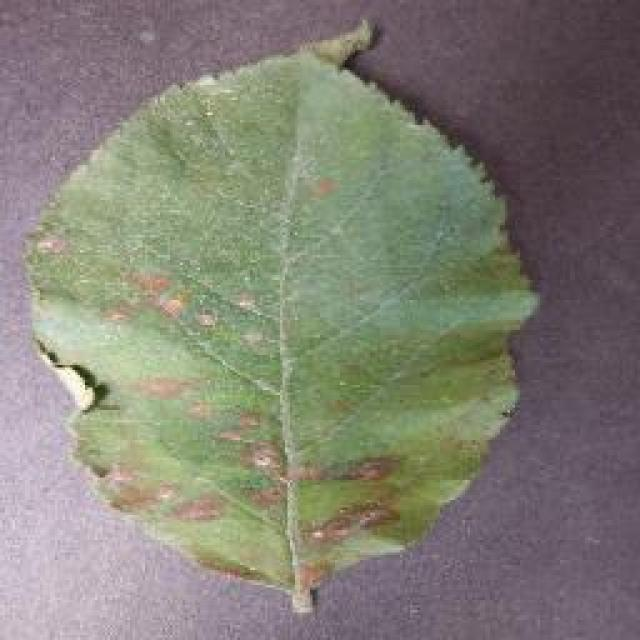apple cedar apple rust: (20, 18, 540, 612)
